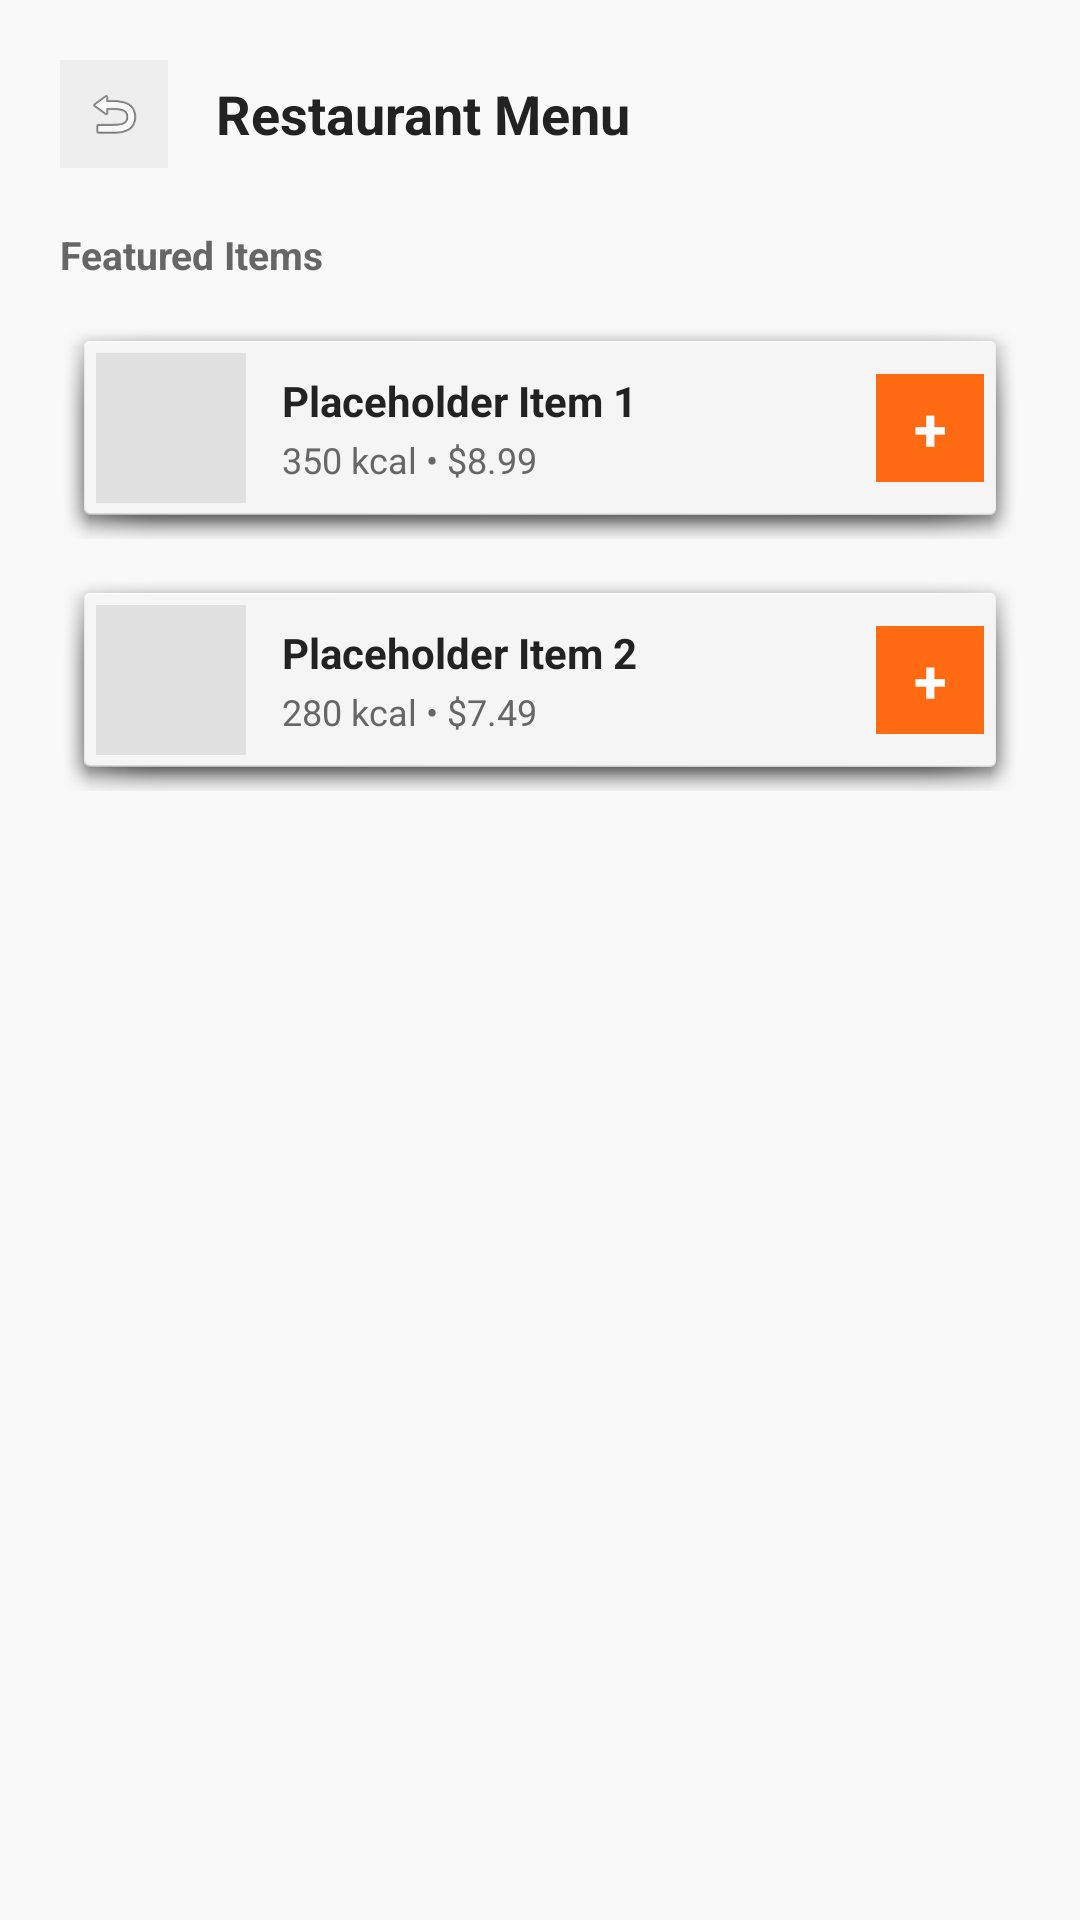

Screen size 1080x1920. Icon name, then its center in pixels as [x,y]:
revert: [114,114]
